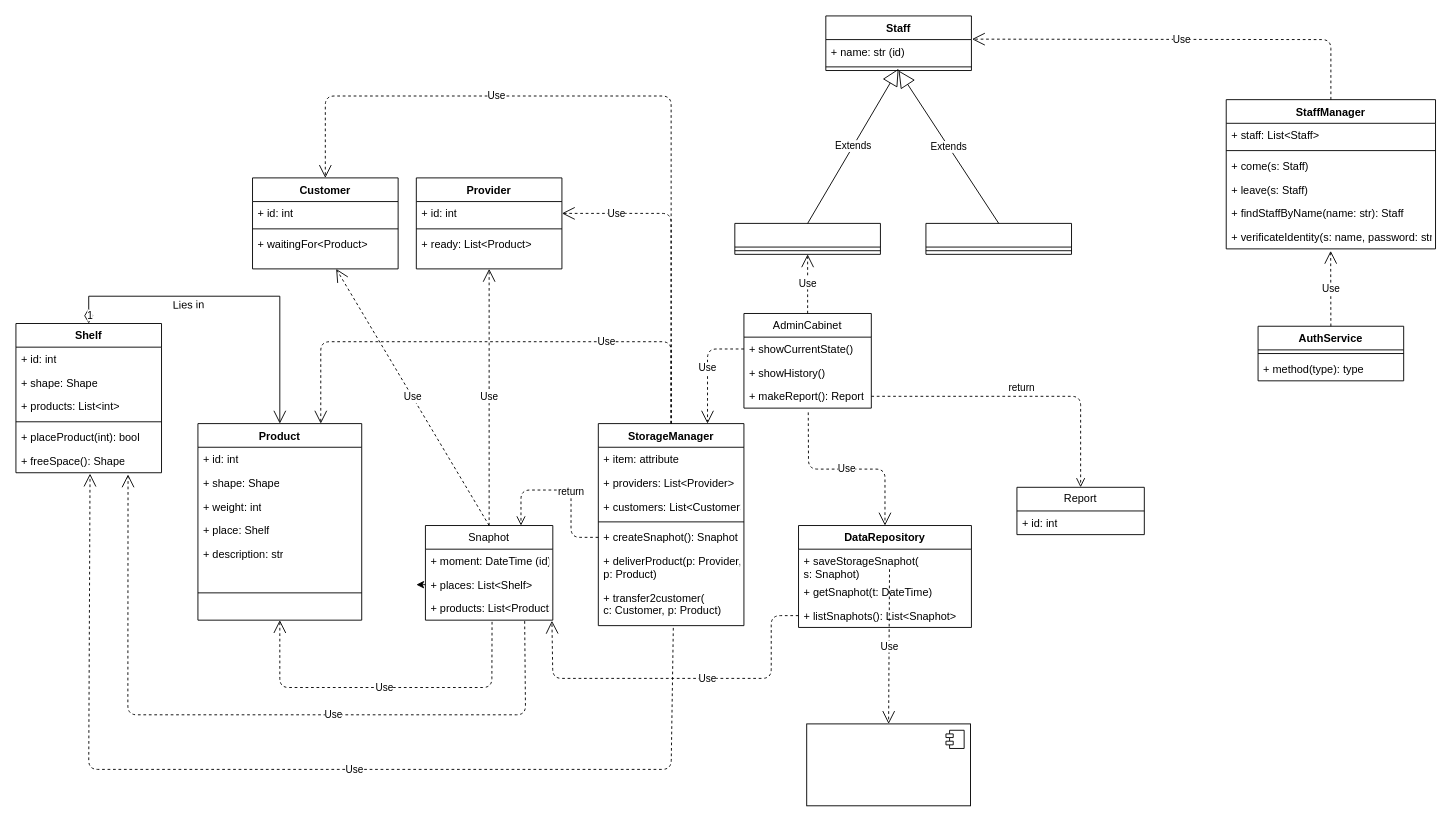
Image size: 1451x822. Some labels were removed from this diagram. Each missing label, with the centre of its shape:
"Administrator" goes at point 807,238.
"Database" goes at point 888,764.
"Porter" goes at point 998,238.
